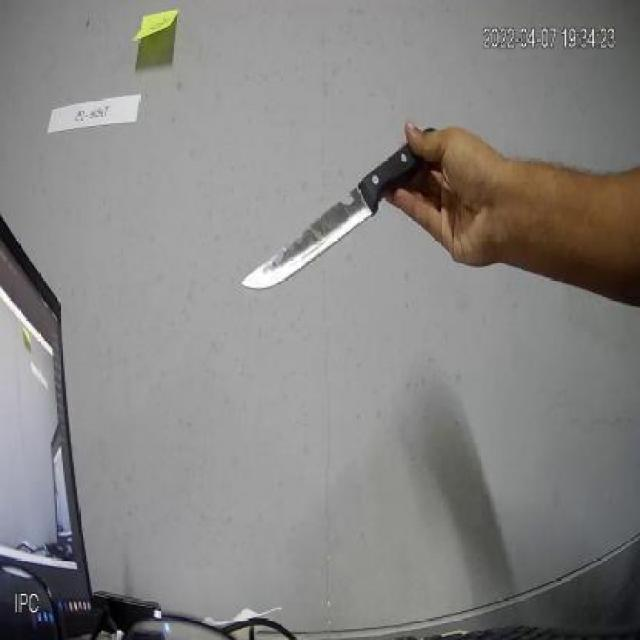-: (235, 129, 457, 297)
